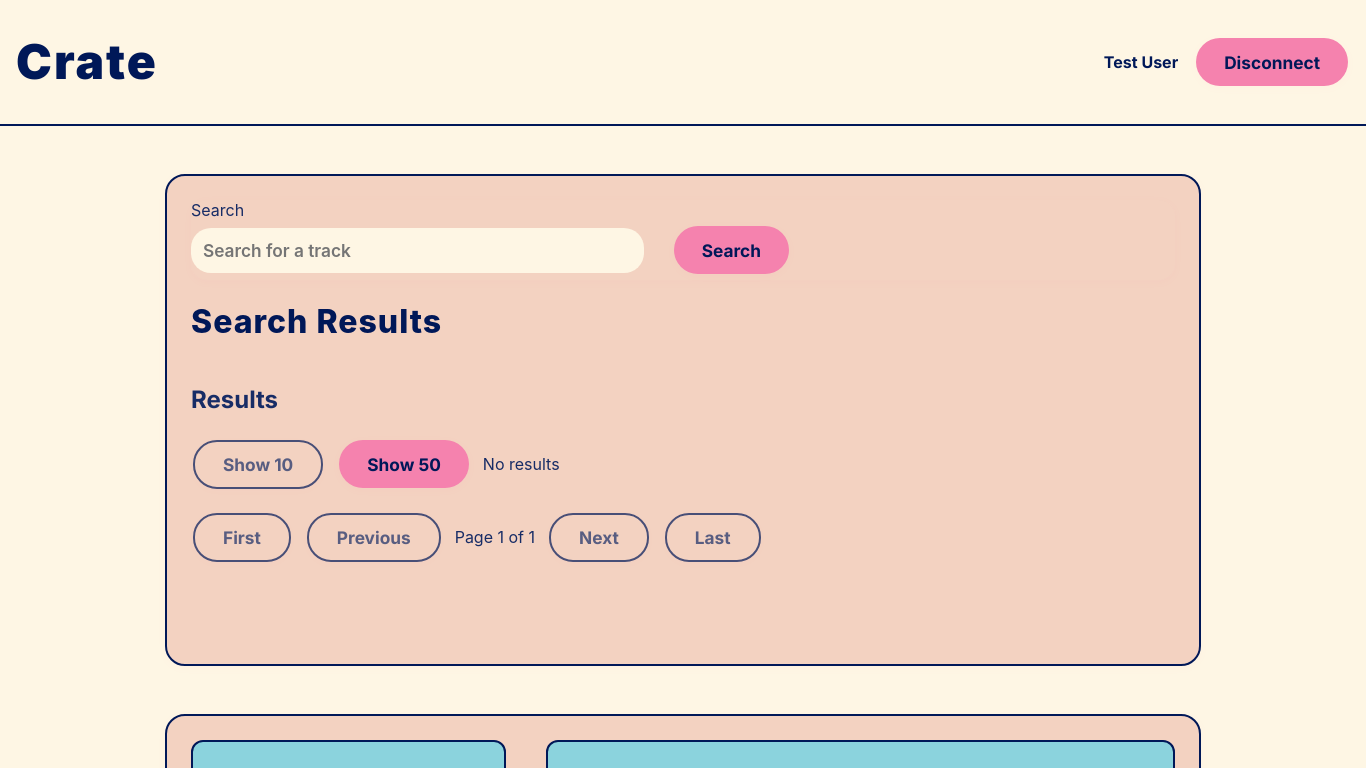
Test case: App integration › shows rate-limit error when Spotify.search returns 429
The image size is (1366, 768).
Check: the text "Test User" is shown, box x1=1104 y1=52 x2=1178 y2=72
In the search field with placeholder "Search for a track": (417, 250) x1=191 y1=228 x2=644 y2=272, type "ratelimit"
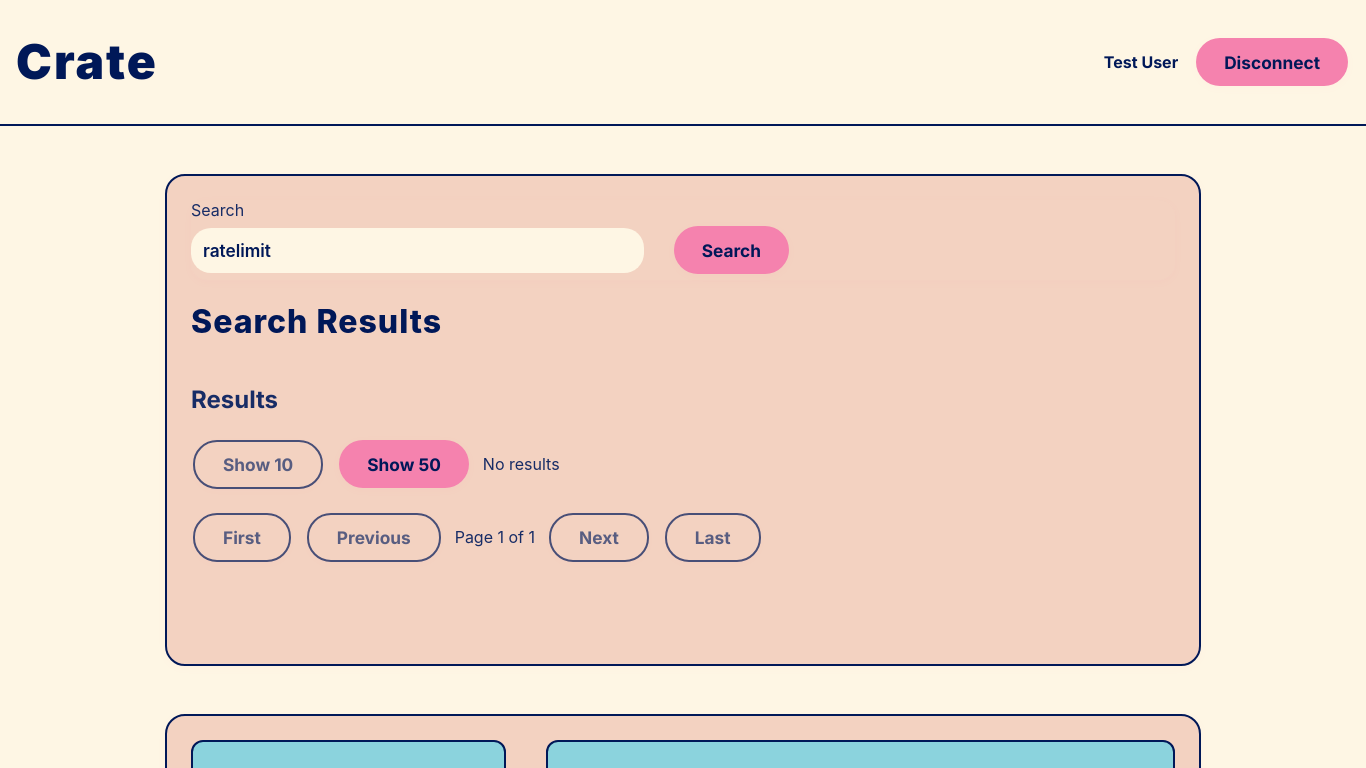
Press Enter in the search field with placeholder "Search for a track", box x1=191 y1=228 x2=644 y2=272
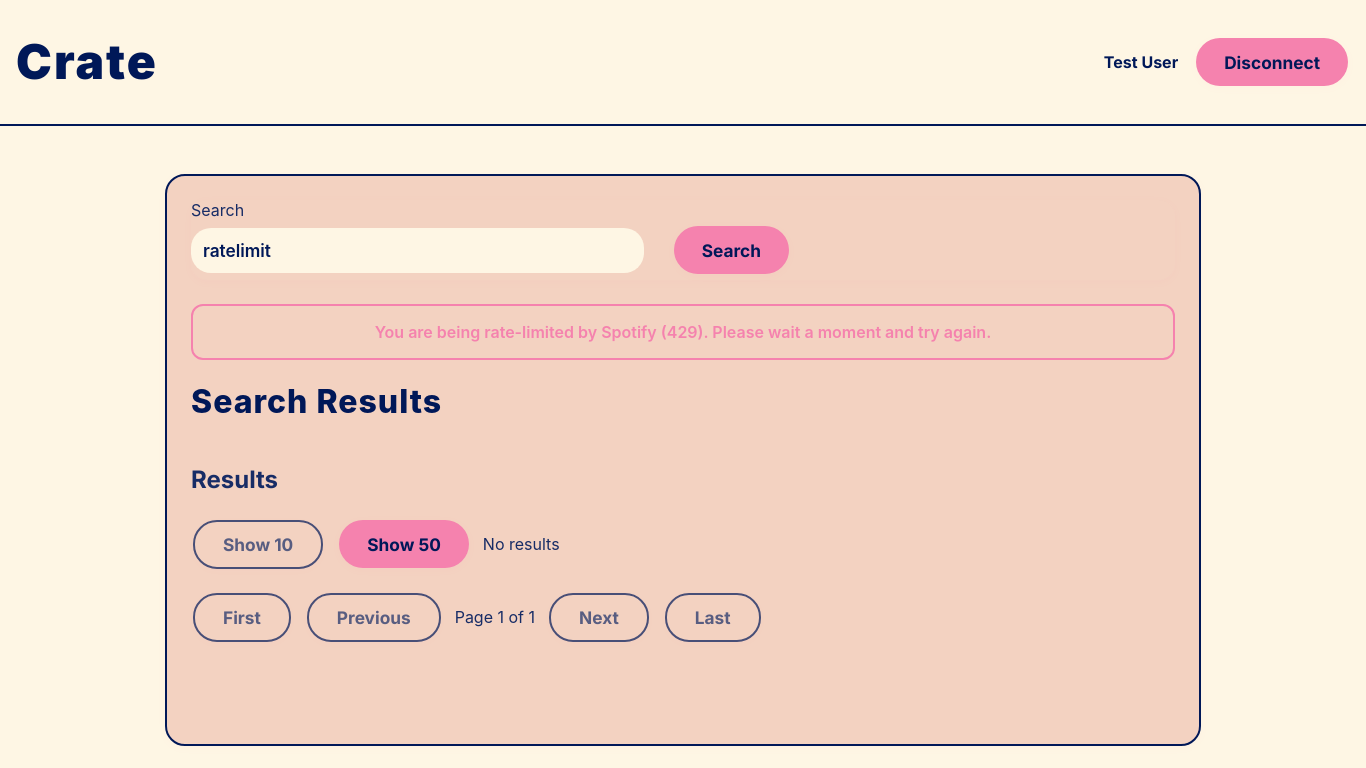
Check: the message is shown, box x1=191 y1=304 x2=1175 y2=360
Check: the message shows "rate-limited", box x1=375 y1=322 x2=991 y2=342
